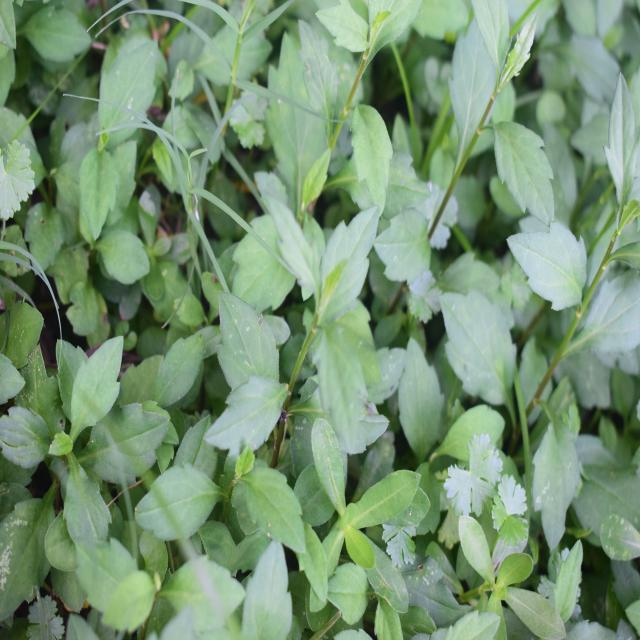Indian aster: (443, 13, 635, 436), (246, 199, 408, 490)
